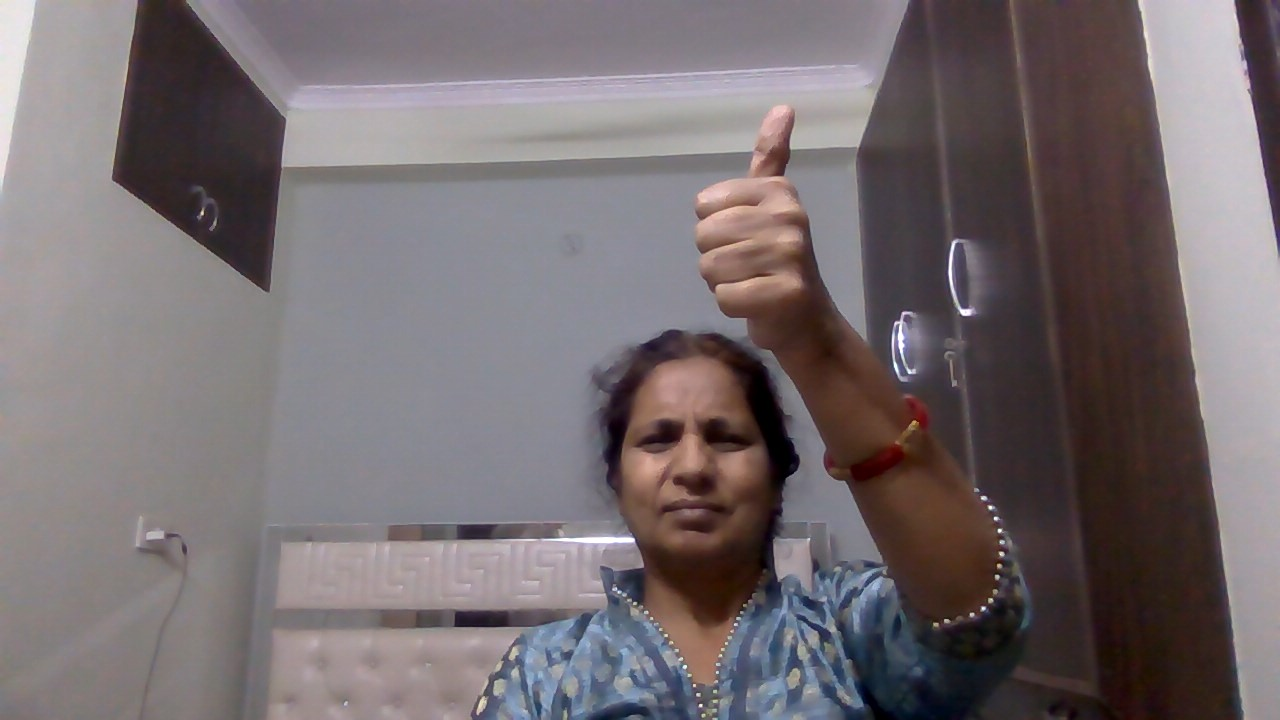Save: (683, 100, 854, 373)
